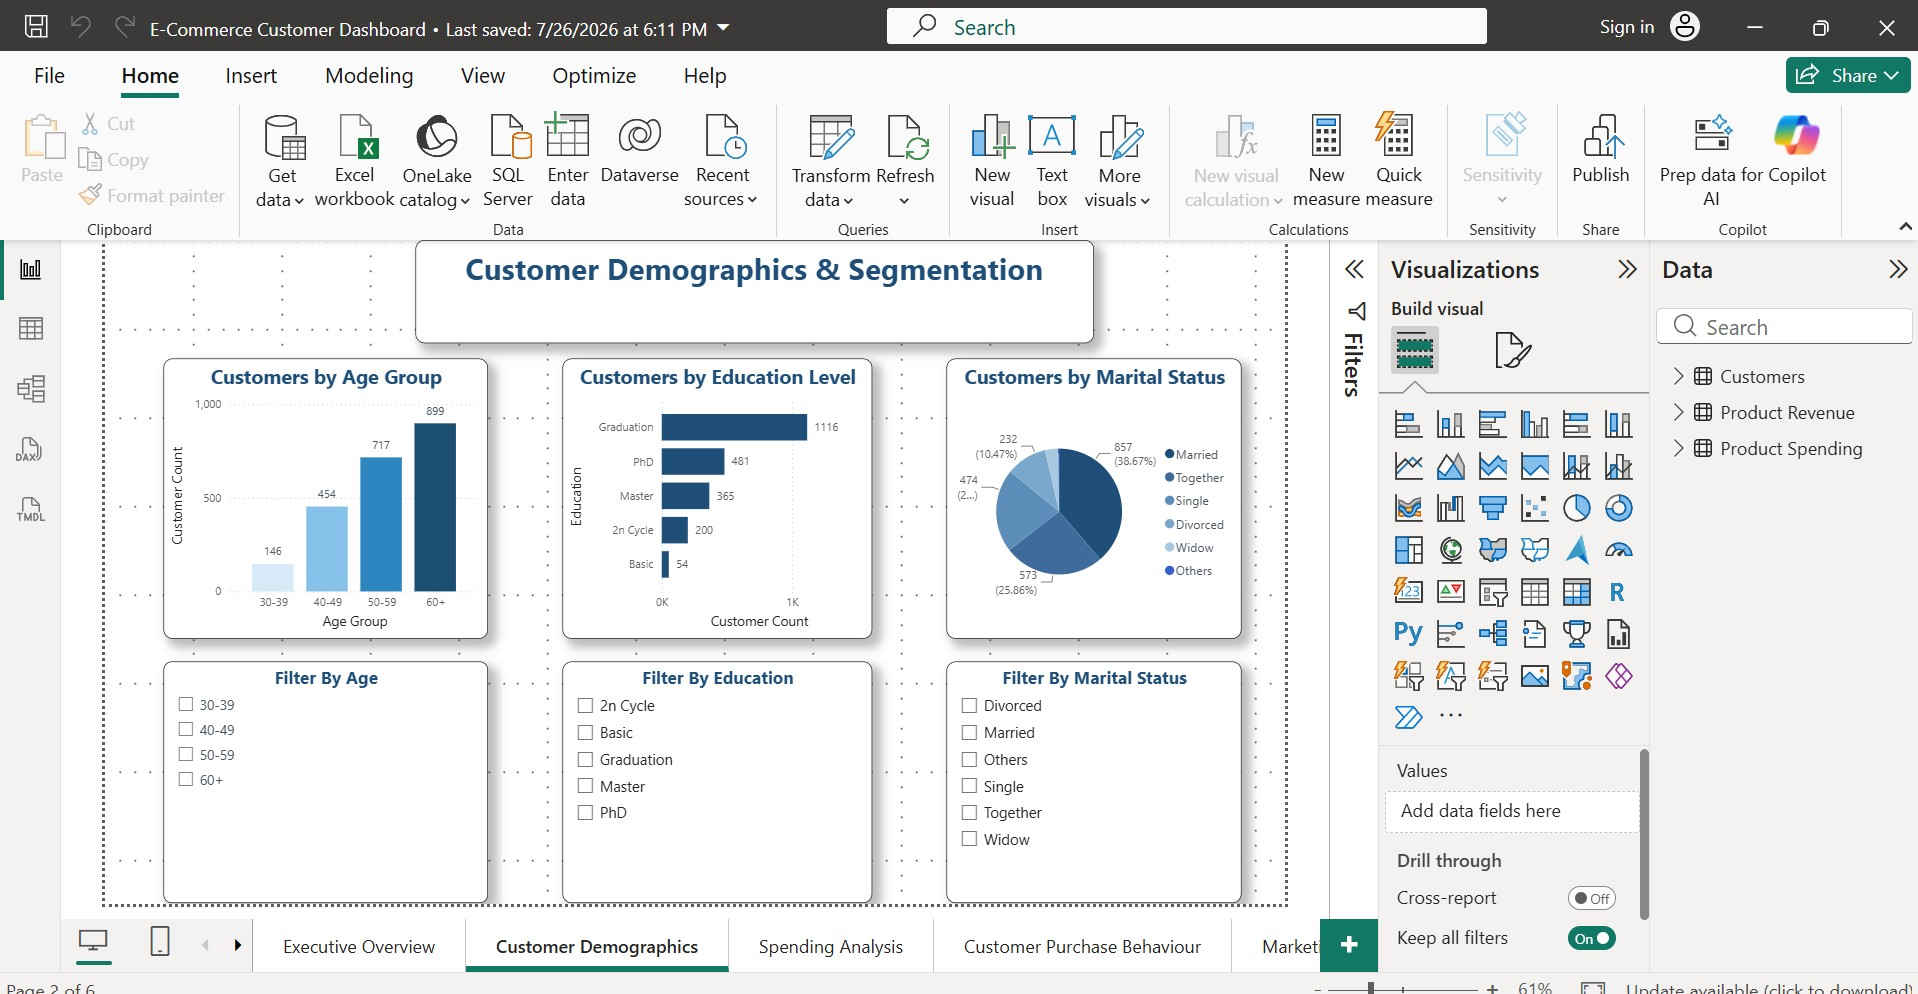

Layout of this report page (visuals, bound fields, positions):
{"tool":"powerbi","page":{"name":"Customer Demographics","canvas":[1280,720],"ordinal":1},"visuals":[{"type":"textbox","box":[336,0,736,112],"z":0},{"type":"clusteredColumnChart","title":"Customers by Age Group","fields":{"Category":["Customers.Age Group"],"Y":["CountNonNull(Customers.ID)"]},"box":[64,128,352,304],"z":1000},{"type":"clusteredBarChart","title":"Customers by Education Level","fields":{"Category":["Customers.Education"],"Y":["CountNonNull(Customers.ID)"]},"box":[496,128,336,304],"z":2000},{"type":"pieChart","title":"Customers by Marital Status","fields":{"Category":["Customers.Marital_Status"],"Y":["CountNonNull(Customers.ID)"]},"box":[912,128,320,304],"z":3000},{"type":"slicer","title":"Filter By Age","fields":{"Values":["Customers.Age Group"]},"box":[64,458,352,262],"z":4000},{"type":"slicer","title":"Filter By Education","fields":{"Values":["Customers.Education"]},"box":[496,458,336,262],"z":5000},{"type":"slicer","title":"Filter By Marital Status","fields":{"Values":["Customers.Marital_Status"]},"box":[912,458,320,262],"z":6000}]}

Visuals, with their boxes on the page's 1280x720 design canvas (x1, y1, x2, y2). These are canvas units, not pixel positions in the 1918x994 screenshot, which may show the page scaled, cropped or inside an application window:
textbox: rect(336, 0, 1072, 112)
"Customers by Age Group" clusteredColumnChart: rect(64, 128, 416, 432)
"Customers by Education Level" clusteredBarChart: rect(496, 128, 832, 432)
"Customers by Marital Status" pieChart: rect(912, 128, 1232, 432)
"Filter By Age" slicer: rect(64, 458, 416, 720)
"Filter By Education" slicer: rect(496, 458, 832, 720)
"Filter By Marital Status" slicer: rect(912, 458, 1232, 720)
